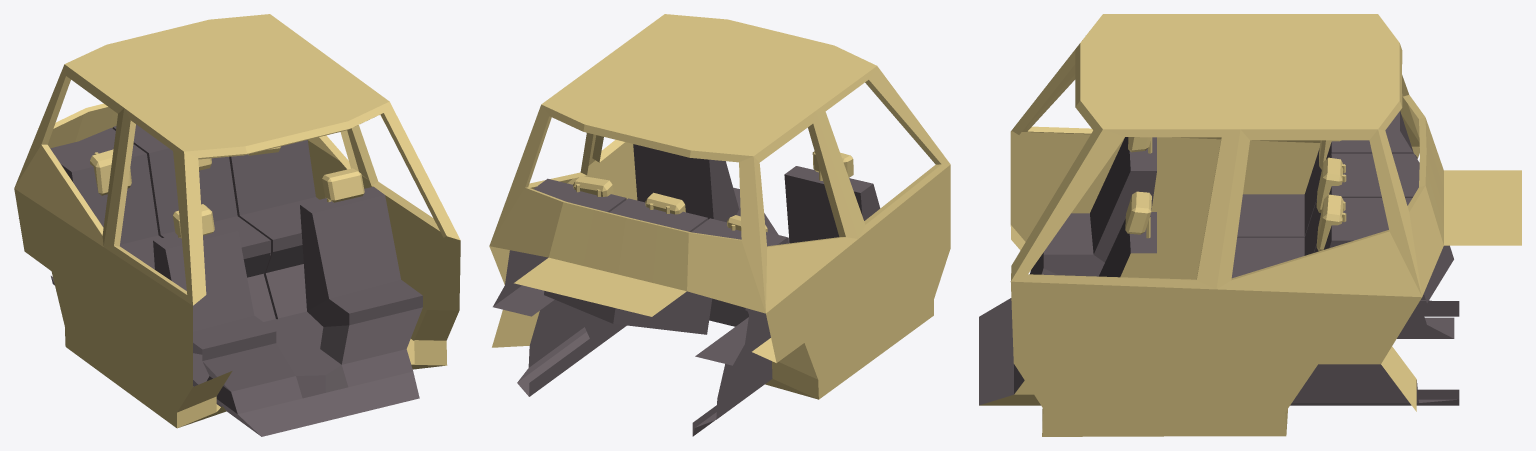
Rendered from CarPlayerInterior.fbx.
3 views of the same model, side by side, from view 1: azimuth 30°, elevation 25°; view 2: azimuth 150°, elevation 25°; view 3: azimuth 270°, elevation 25° (orthographic). The views are drawn at different scales.
Parts seen in each view (by area): view 1: Cube; view 2: Cube; view 3: Cube.
Boxes of the visible parts, left/top/right/bottom form: Cube: left=14, top=14, right=460, bottom=436; Cube: left=489, top=14, right=950, bottom=436; Cube: left=979, top=14, right=1521, bottom=436.
Bounding box in the file's own units: 298 × 268 × 455.
